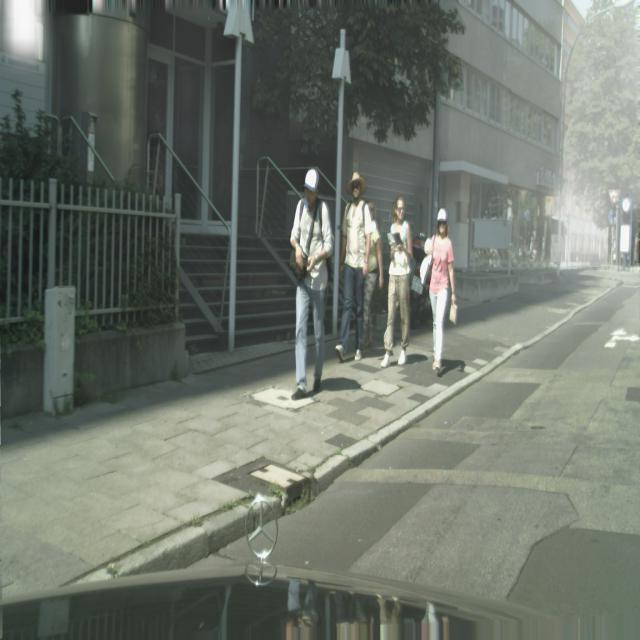person: (289, 167, 334, 399), (335, 171, 371, 362), (381, 195, 413, 369), (425, 208, 456, 375), (361, 202, 383, 351)
